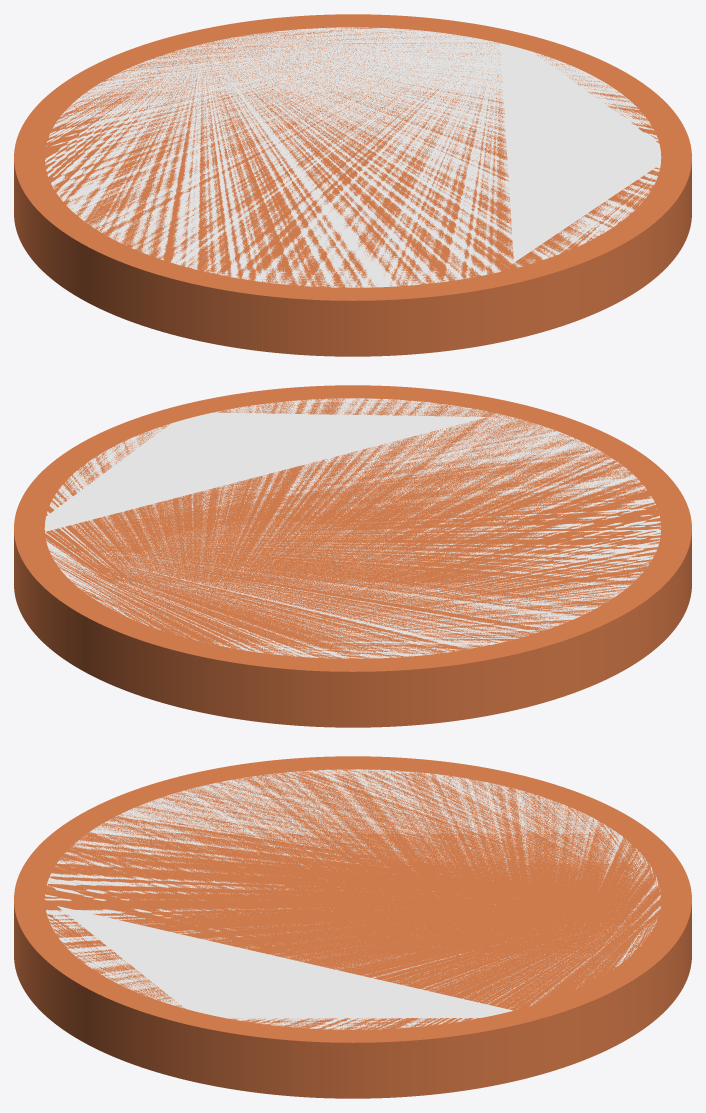
File: circleLight.fbx
3 views of the same model, one above another, from view 1: azimuth 30°, elevation 25°; view 2: azimuth 150°, elevation 25°; view 3: azimuth 270°, elevation 25° (orthographic).
Parts seen in each view (by area): view 1: frame, light; view 2: frame, light; view 3: frame, light.
Part boxes in pixels (box(x1,y1,x2,y2)): frame: box(14, 14, 691, 356); light: box(45, 27, 661, 287); frame: box(14, 385, 691, 727); light: box(44, 398, 660, 658); frame: box(14, 756, 691, 1098); light: box(44, 769, 660, 1029).
Bounding box in the file's own units: 220 × 20 × 220.
